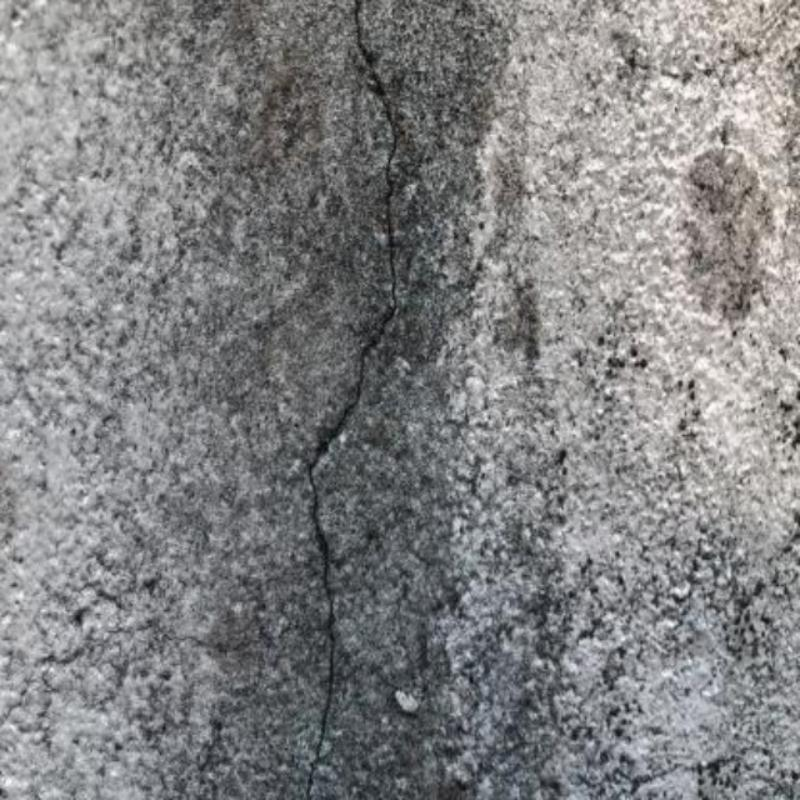crack: (306, 1, 400, 796)
